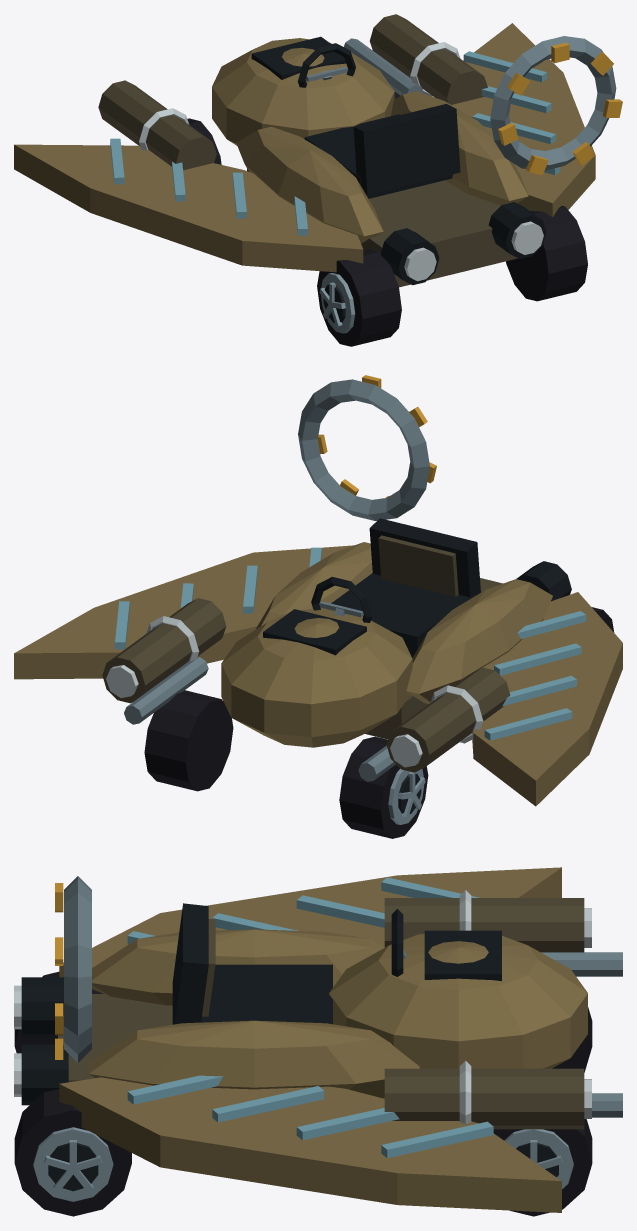
Rendered from kart.glb.
The picture shows the model from 3 angles, top to bottom: view 1: azimuth 30°, elevation 25°; view 2: azimuth 150°, elevation 25°; view 3: azimuth 270°, elevation 25°; orthographic projection. The views are drawn at different scales.
Parts seen in each view (by area): view 1: identity-starfighter-death-glider-crescent-wings-and-central, identity-starfighter-motif-plasma, identity-starfighter-driver-cockpit, identity-starfighter-motif-gate-ring, wheel-rear-left, wheel-rear-right; view 2: identity-starfighter-death-glider-crescent-wings-and-central, identity-starfighter-motif-plasma, identity-starfighter-driver-cockpit, identity-starfighter-motif-gate-ring, wheel-front-right, wheel-front-left; view 3: identity-starfighter-death-glider-crescent-wings-and-central, identity-starfighter-motif-plasma, identity-starfighter-driver-cockpit, wheel-rear-right, identity-starfighter-motif-gate-ring, wheel-front-right, wheel-front-left, wheel-rear-left.
Boxes of the visible parts, x1,y1,x2,y2 form: identity-starfighter-death-glider-crescent-wings-and-central: (14, 23, 595, 287); identity-starfighter-motif-plasma: (98, 14, 487, 170); identity-starfighter-driver-cockpit: (297, 43, 460, 198); identity-starfighter-motif-gate-ring: (490, 36, 622, 175); wheel-rear-left: (317, 249, 401, 346); wheel-rear-right: (506, 205, 587, 301); identity-starfighter-death-glider-crescent-wings-and-central: (14, 542, 622, 806); identity-starfighter-motif-plasma: (102, 598, 510, 772); identity-starfighter-driver-cockpit: (311, 518, 480, 657); identity-starfighter-motif-gate-ring: (298, 375, 436, 520); wheel-front-right: (144, 690, 233, 791); wheel-front-left: (339, 736, 428, 838); identity-starfighter-death-glider-crescent-wings-and-central: (14, 867, 622, 1212); identity-starfighter-motif-plasma: (384, 890, 591, 1129); identity-starfighter-driver-cockpit: (172, 903, 406, 1024); wheel-rear-right: (14, 1089, 131, 1216); identity-starfighter-motif-gate-ring: (55, 876, 91, 1062); wheel-front-right: (493, 1119, 592, 1216); wheel-front-left: (552, 1007, 592, 1072); wheel-rear-left: (14, 971, 102, 1053).
Size of the model in its own units: 3.16 by 1.52 by 2.59.
